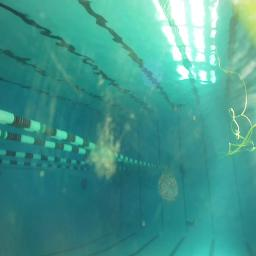Full: (185, 217, 195, 227)
